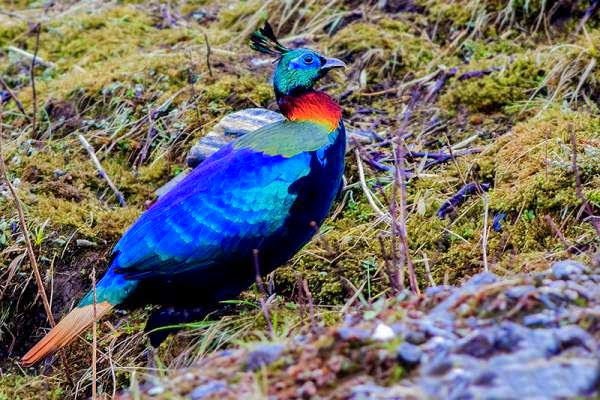bird: (17, 26, 382, 368)
